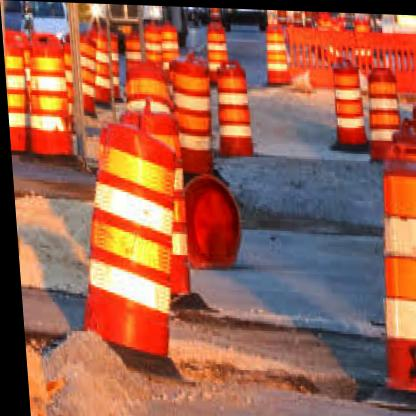obstacle: (63, 133, 190, 352), (210, 60, 254, 157), (330, 52, 366, 144)
